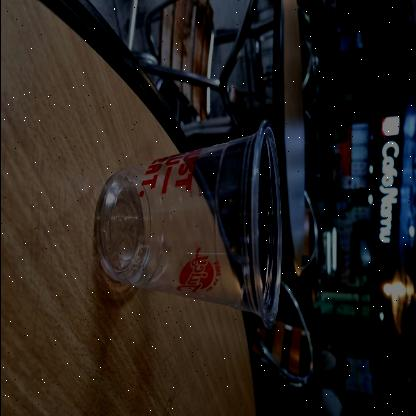Others: (91, 117, 282, 331)
